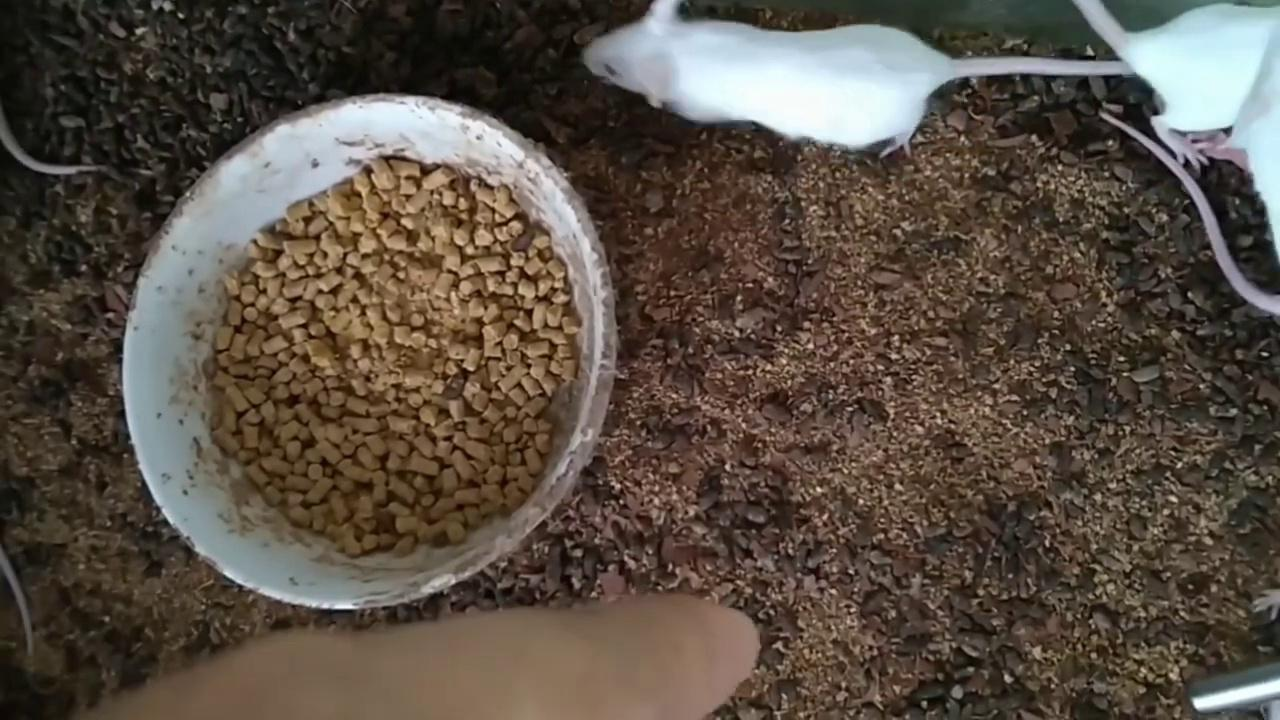rat: (584, 2, 1134, 156)
